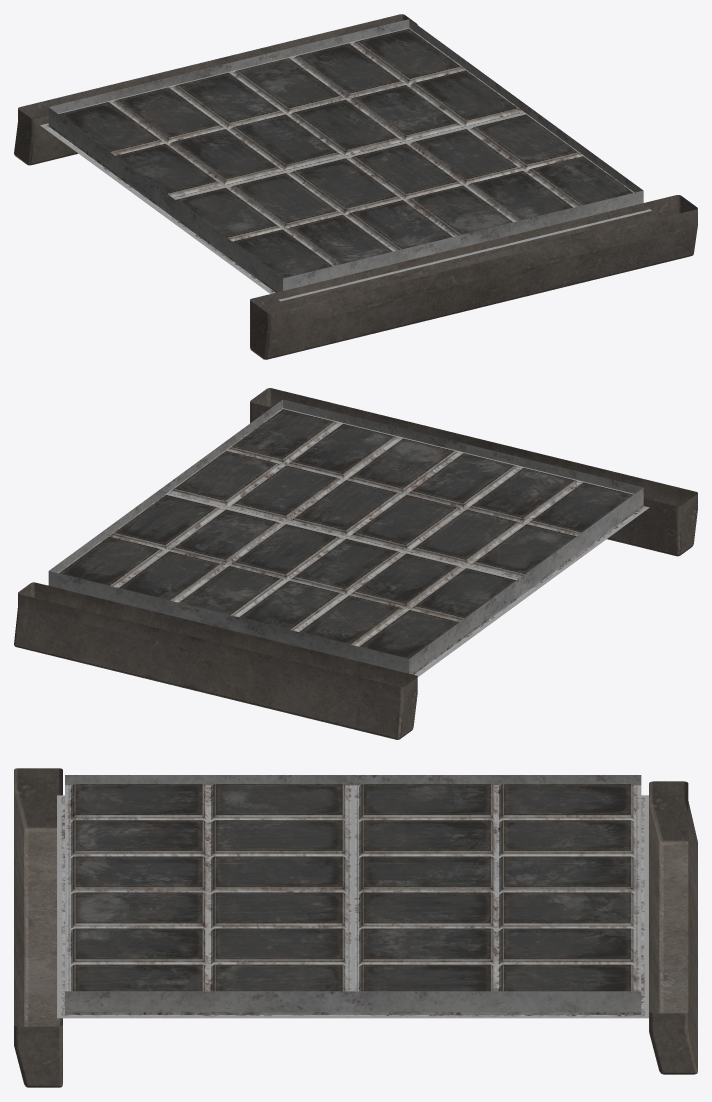
Rendered from window_centered_medium_01.gltf.
3 views of the same model, one above another, from view 1: azimuth 30°, elevation 25°; view 2: azimuth 150°, elevation 25°; view 3: azimuth 270°, elevation 25° (orthographic). The views are drawn at different scales.
Parts seen in each view (by area): view 1: window_centered_medium_01; view 2: window_centered_medium_01; view 3: window_centered_medium_01.
Part boxes in pixels (bbox=[...]): window_centered_medium_01: bbox=[14, 14, 697, 359]; window_centered_medium_01: bbox=[14, 388, 697, 739]; window_centered_medium_01: bbox=[14, 768, 697, 1087].
Size of the model in its own units: 1.56 by 0.2167 by 1.74.
2 materials, 2 textured.
